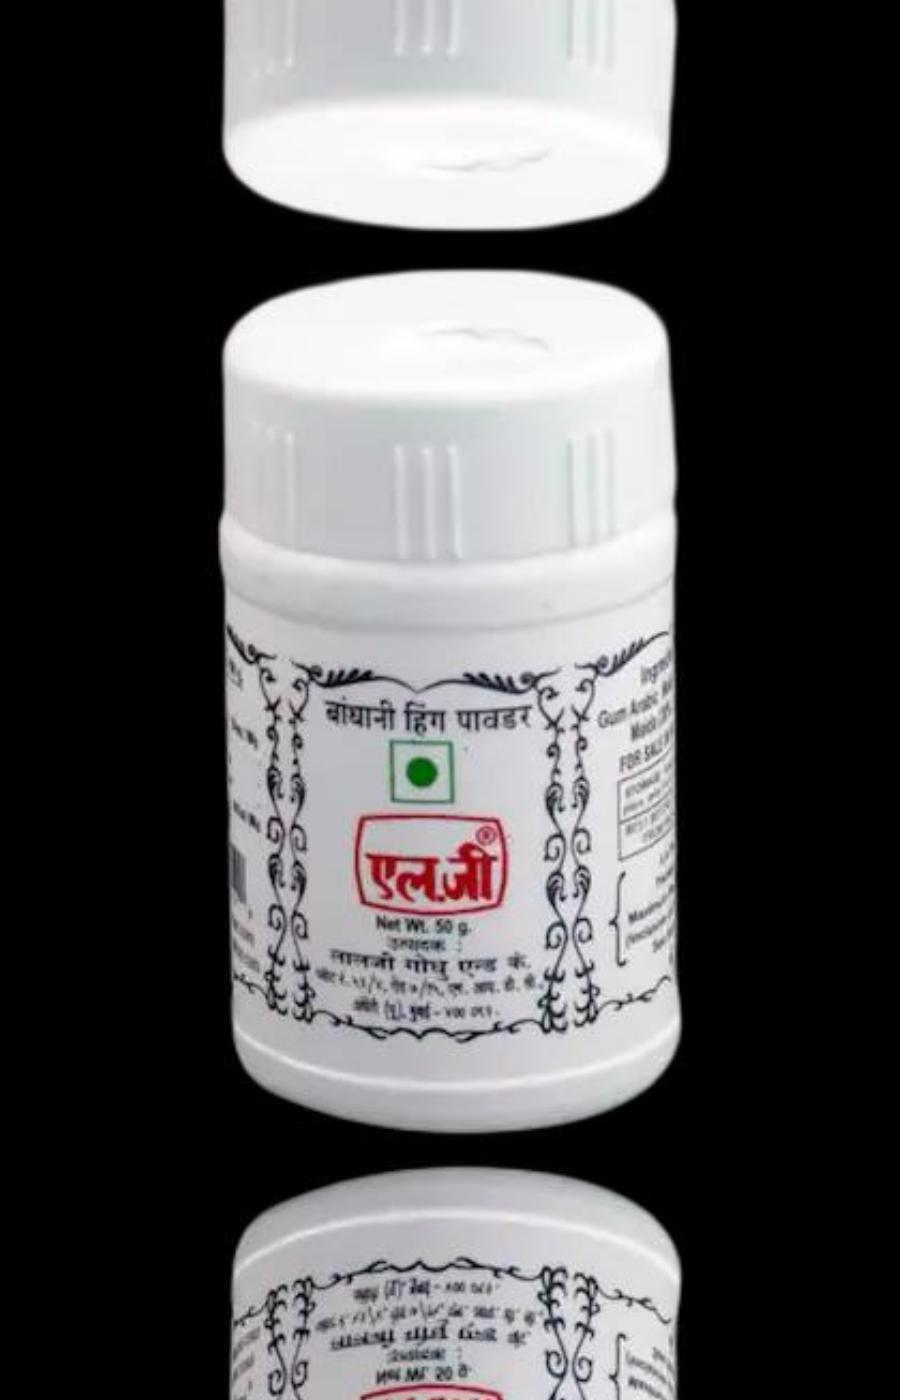LG Compounded Hing Powder 50 g: (223, 254, 676, 1130), (223, 0, 676, 246), (223, 1170, 676, 1400)
